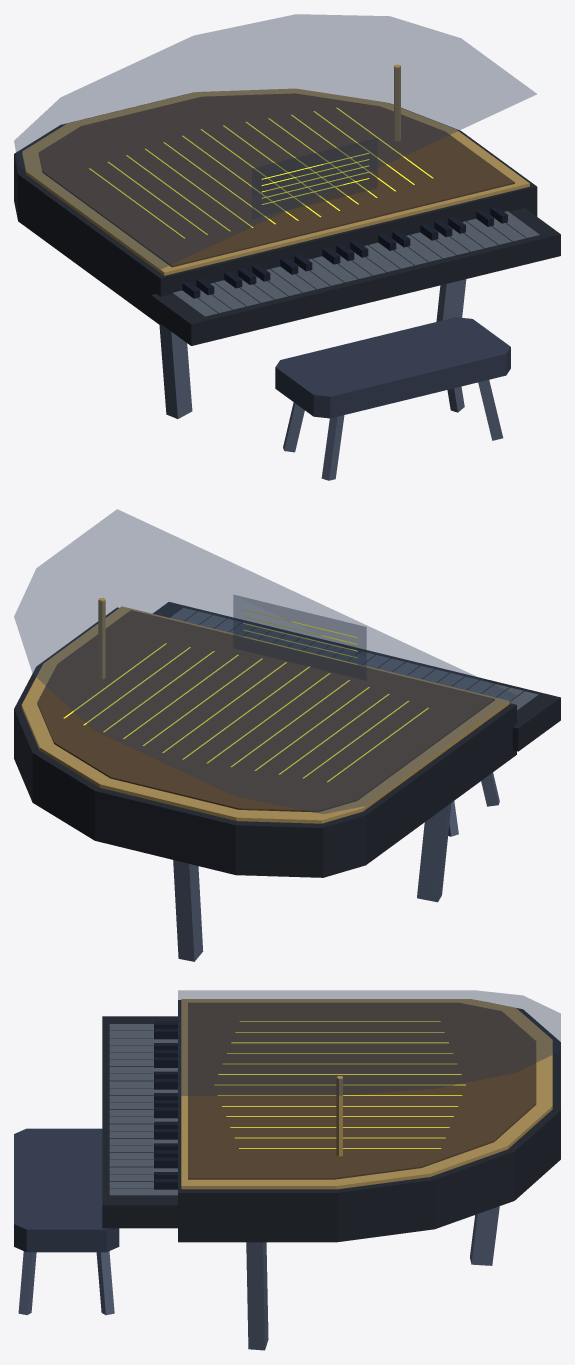
File: res_grand_piano_holo.glb
3 views of the same model, one above another, from view 1: azimuth 30°, elevation 25°; view 2: azimuth 150°, elevation 25°; view 3: azimuth 270°, elevation 25° (orthographic). The views are drawn at different scales.
Visible parts, largest first — view 1: holographic_score, soundboard, curved_concert_case, pianist_bench, brass_rim, ivory_key, splayed_foot, black_key, lit_string; view 2: holographic_score, soundboard, curved_concert_case, brass_rim, splayed_foot, ivory_key, lit_string; view 3: soundboard, holographic_score, curved_concert_case, pianist_bench, brass_rim, ivory_key, splayed_foot, lit_string, black_key.
Part boxes in pixels (left/top/right/bottom): holographic_score: left=14, top=14, right=536, bottom=269; soundboard: left=38, top=93, right=514, bottom=267; curved_concert_case: left=14, top=94, right=560, bottom=345; pianist_bench: left=275, top=317, right=510, bottom=418; brass_rim: left=22, top=64, right=529, bottom=275; ivory_key: left=173, top=211, right=539, bottom=316; splayed_foot: left=159, top=279, right=503, bottom=480; black_key: left=182, top=206, right=507, bottom=298; lit_string: left=89, top=107, right=433, bottom=238; holographic_score: left=14, top=509, right=516, bottom=813; soundboard: left=37, top=610, right=494, bottom=812; curved_concert_case: left=14, top=602, right=560, bottom=877; brass_rim: left=21, top=597, right=509, bottom=823; splayed_foot: left=173, top=772, right=499, bottom=961; ivory_key: left=170, top=608, right=538, bottom=710; lit_string: left=63, top=610, right=428, bottom=782; soundboard: left=188, top=1002, right=536, bottom=1179; holographic_score: left=178, top=990, right=560, bottom=1095; curved_concert_case: left=102, top=1000, right=560, bottom=1242; pianist_bench: left=14, top=1128, right=119, bottom=1252; brass_rim: left=181, top=999, right=552, bottom=1189; ivory_key: left=109, top=1024, right=177, bottom=1195; splayed_foot: left=18, top=1206, right=499, bottom=1350; lit_string: left=215, top=1021, right=465, bottom=1148; black_key: left=154, top=1021, right=177, bottom=1189.
Size of the model in its own units: 2.2 by 1.45 by 2.6.
